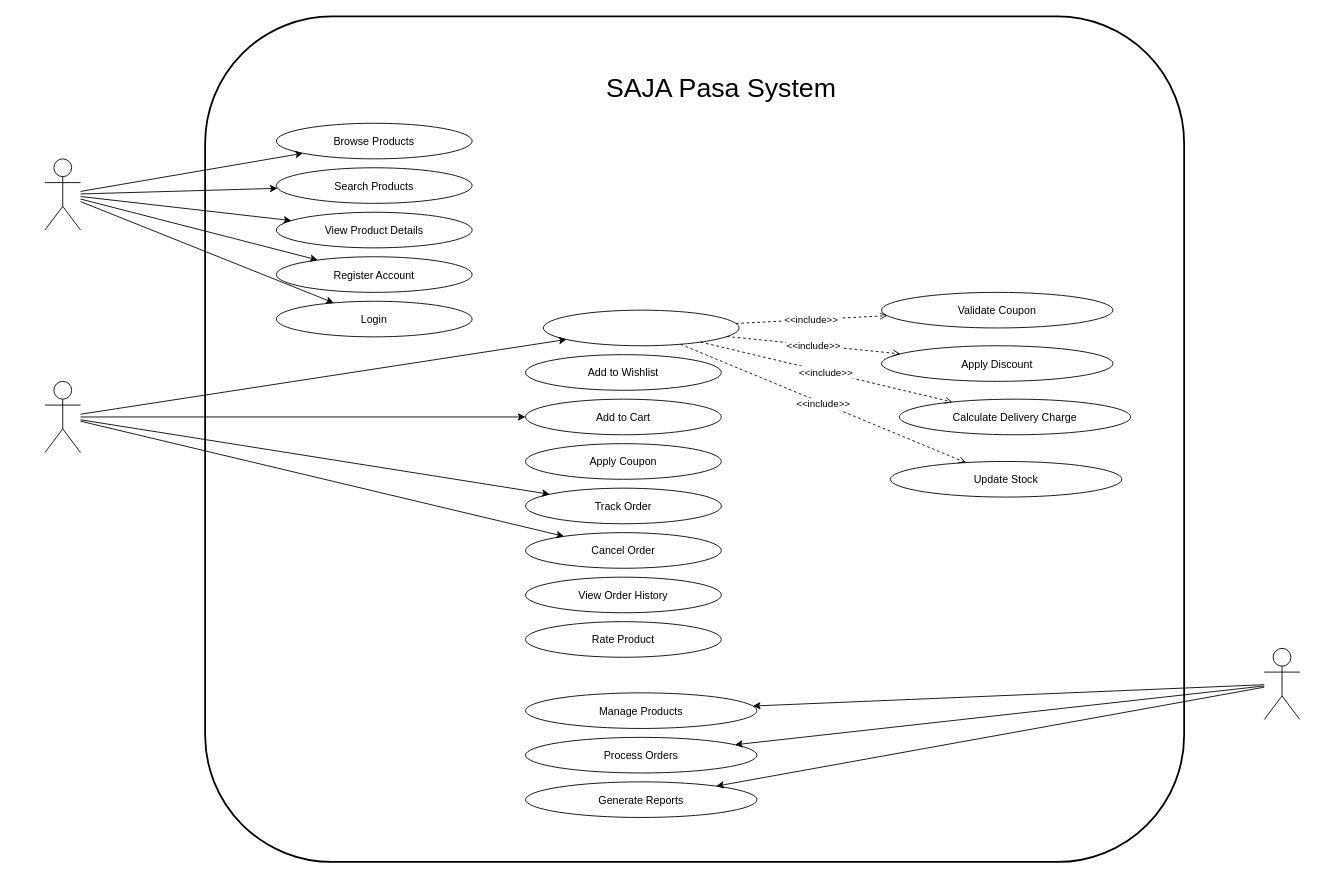
Image size: 1330x878. Some labels were removed from this diagram. The centre of each missing label's shape, as x and y in pixels:
Administrator: point (1281, 683)
Guest User: point (62, 194)
Member (Customer): point (62, 416)
Place Order: point (640, 327)
